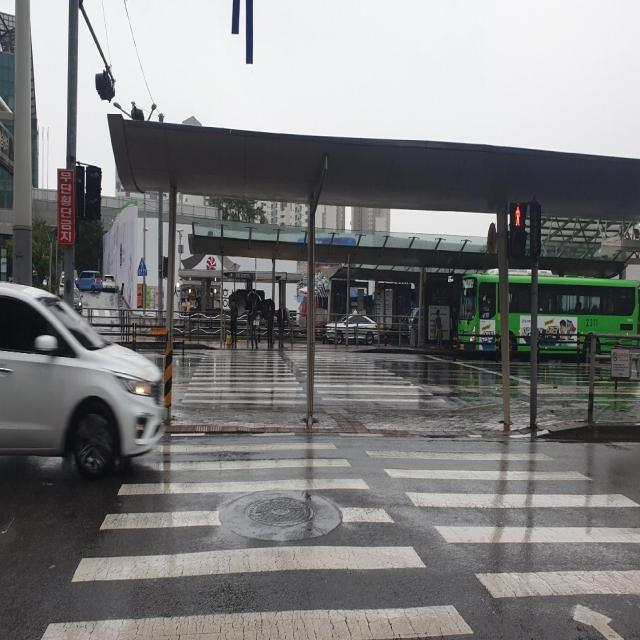zebra crossing ahead at: (139, 428, 640, 640)
